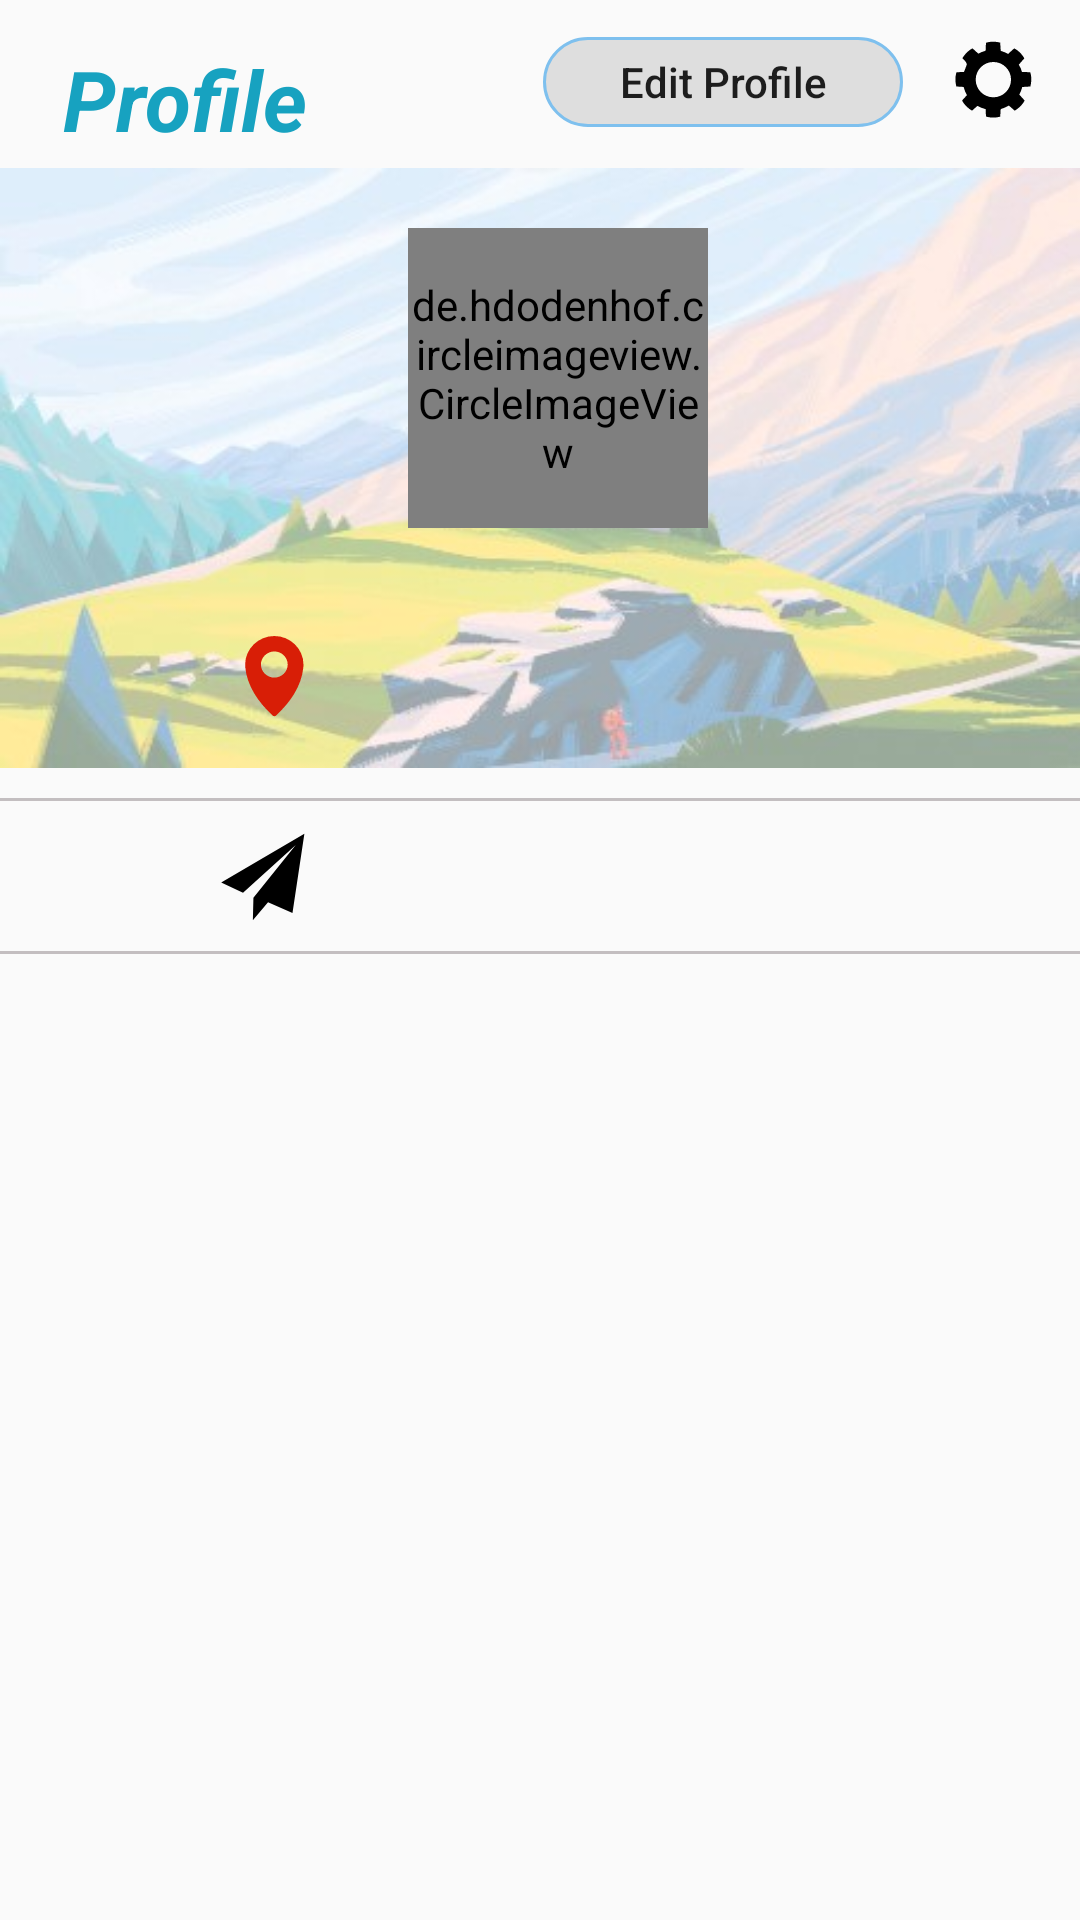

Locate icon controls on the screen. Image size 1080 x 1920, boxes as (x1, y1, x2, y2).
settings: (955, 41, 1032, 118)
